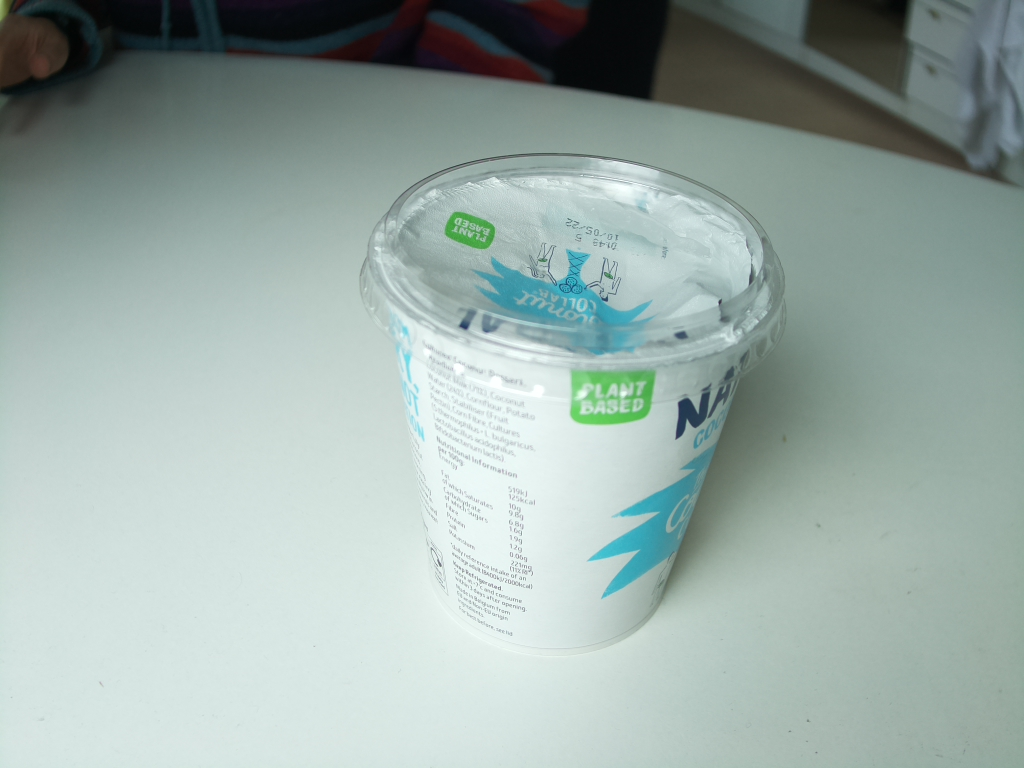yogurt: (359, 149, 791, 656)
